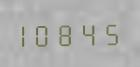eight: (60, 20, 80, 46)
five: (102, 19, 122, 46)
four: (81, 19, 101, 46)
one: (18, 20, 38, 47)
zero: (39, 20, 59, 47)
